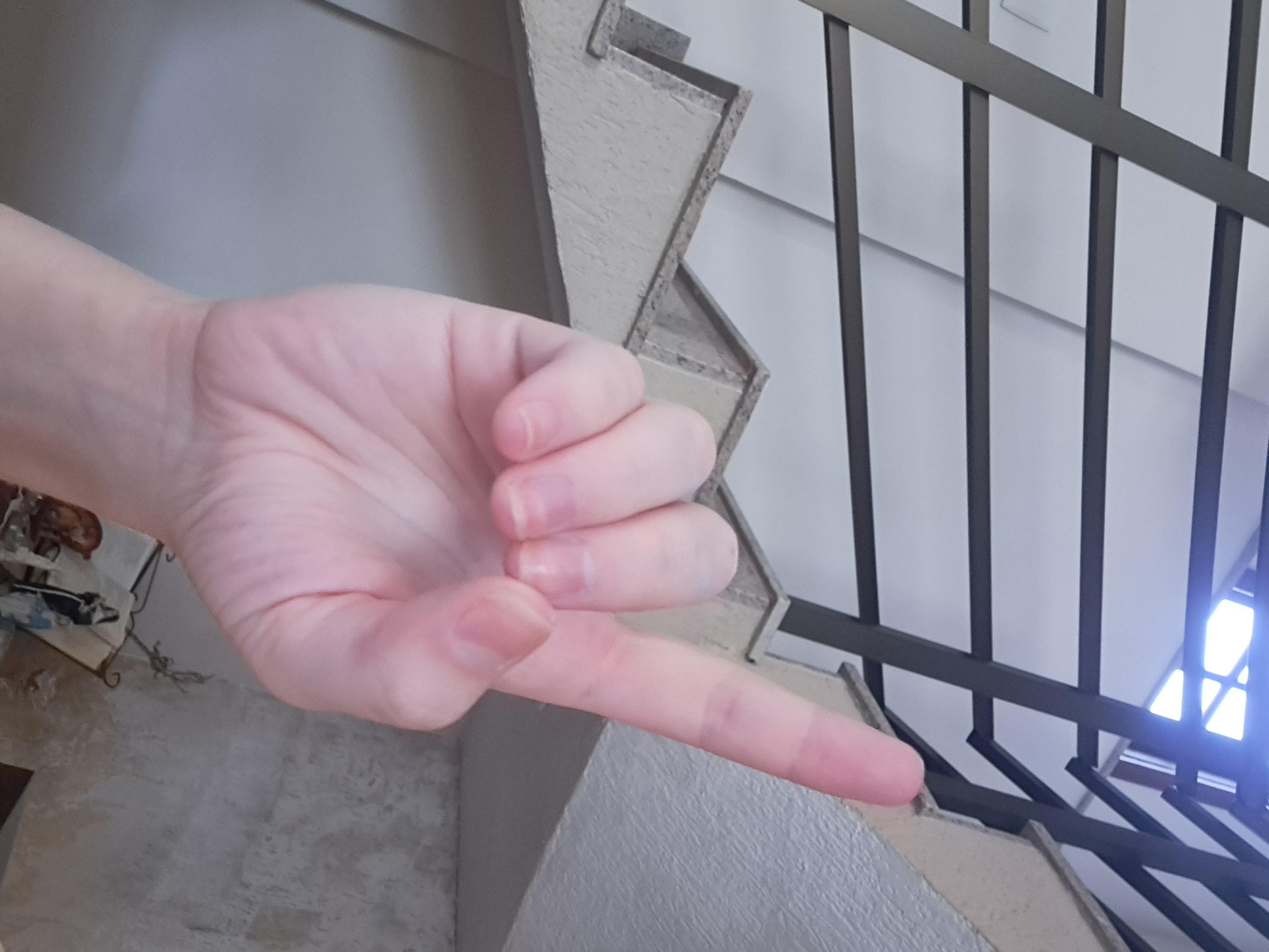D2: (394, 230, 1094, 849)
